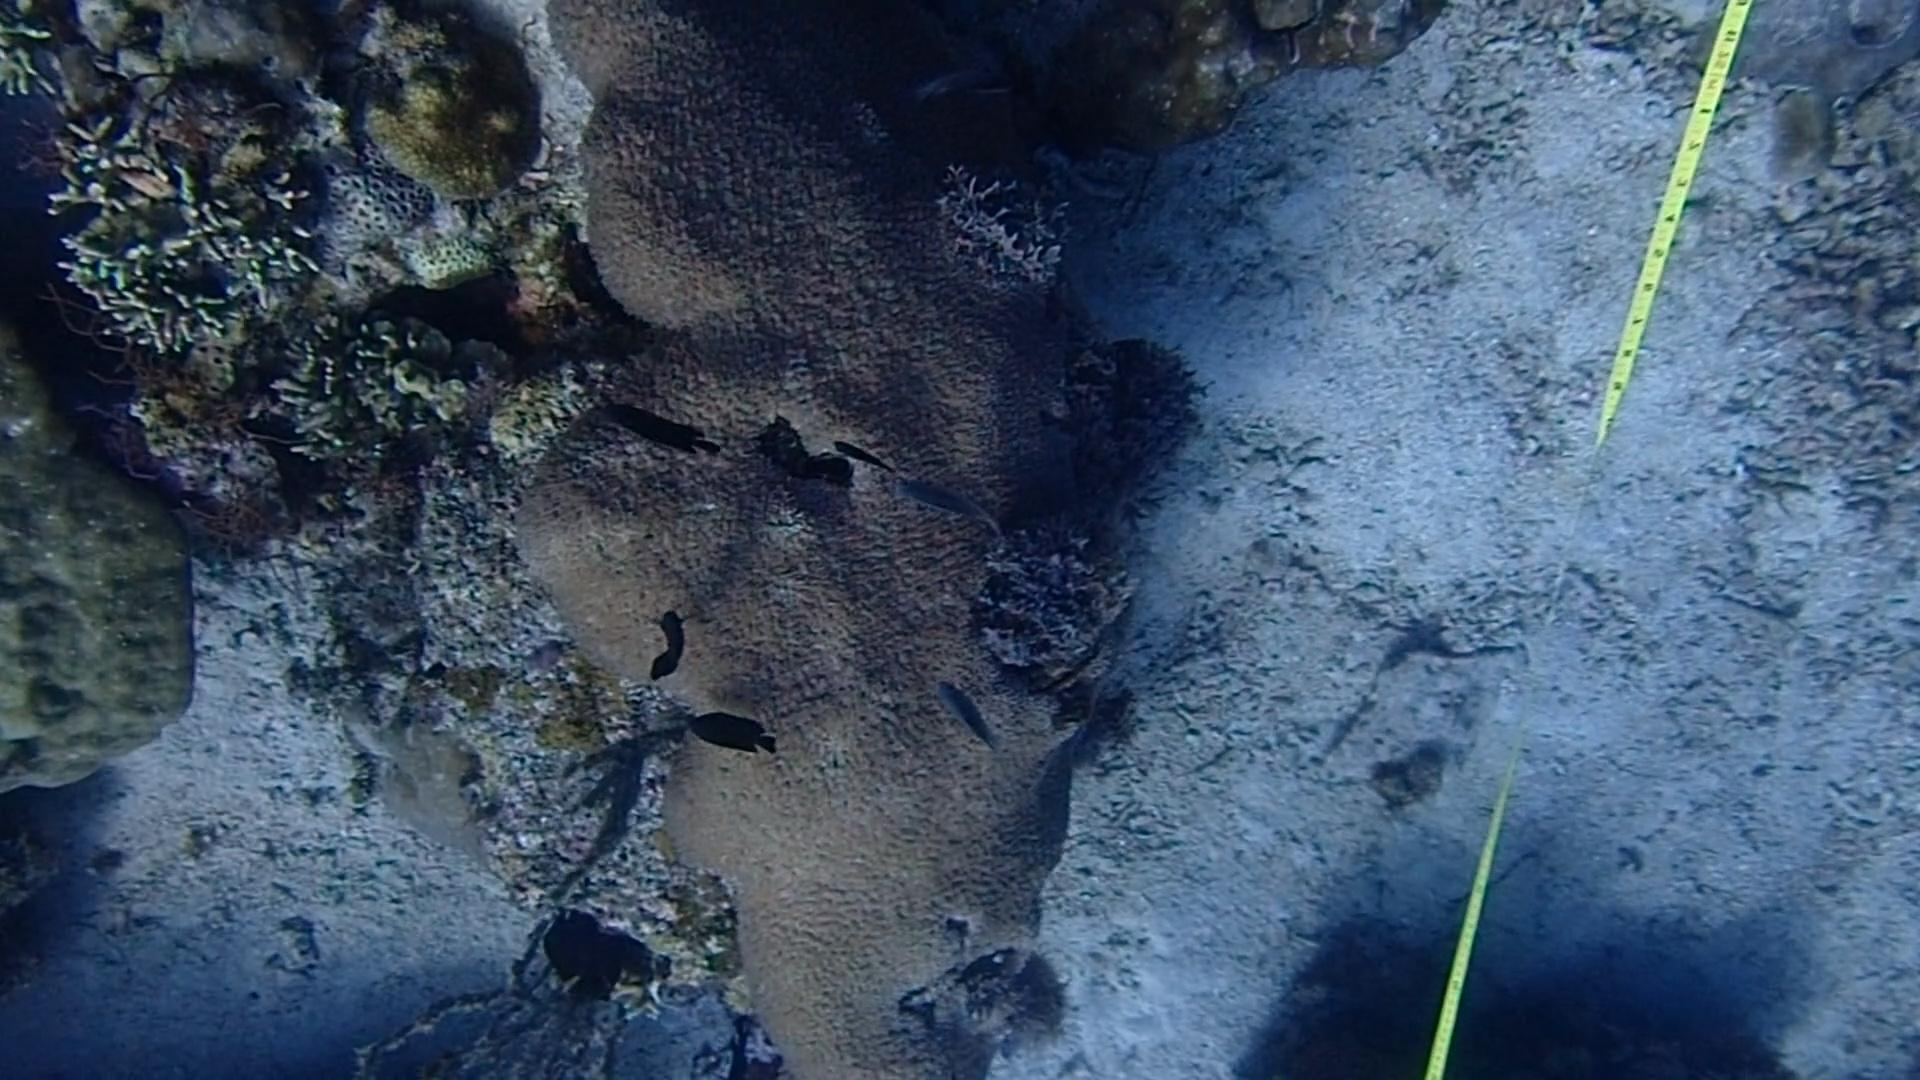Dark Fish: (595, 393, 711, 473), (684, 704, 779, 761), (638, 603, 696, 691), (831, 423, 901, 485)
Light Fish: (901, 467, 1005, 534), (903, 42, 1006, 109), (928, 682, 1001, 761)
